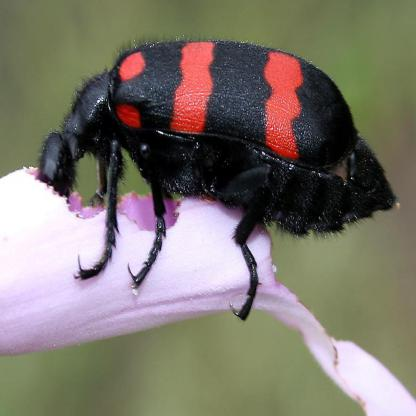blister beetle: (36, 37, 398, 317)
